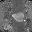people: (11, 12, 24, 22)
